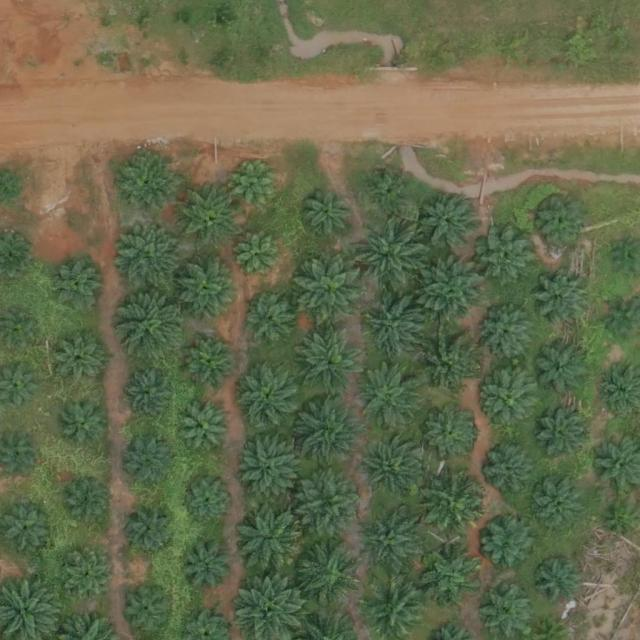Healthy: (358, 213, 436, 291), (120, 291, 191, 362), (299, 327, 370, 398), (295, 395, 366, 466), (117, 224, 187, 295), (296, 253, 367, 323), (296, 470, 366, 541), (235, 506, 305, 577), (117, 153, 180, 216), (239, 364, 302, 427), (360, 366, 423, 429), (360, 442, 423, 505), (425, 473, 488, 536), (422, 548, 485, 611), (179, 185, 241, 248), (241, 435, 303, 498), (367, 294, 429, 357), (422, 261, 484, 324), (417, 333, 479, 396), (362, 511, 425, 573), (297, 543, 360, 605), (179, 260, 241, 322), (2, 503, 57, 558), (423, 197, 478, 252), (423, 406, 478, 461), (479, 231, 534, 286), (480, 309, 535, 364), (483, 372, 538, 427), (483, 442, 538, 497), (483, 517, 538, 572), (535, 273, 590, 328), (534, 343, 589, 398), (534, 407, 589, 462), (530, 481, 585, 536), (481, 583, 536, 638), (62, 548, 117, 603), (302, 188, 356, 243), (128, 441, 175, 489), (187, 340, 234, 388), (184, 405, 231, 453), (251, 298, 298, 346), (54, 262, 101, 309), (129, 370, 176, 417), (125, 588, 172, 635)
Small: (183, 475, 238, 530), (232, 159, 286, 214), (180, 541, 234, 596), (127, 503, 181, 558), (235, 232, 282, 279), (61, 479, 108, 526), (62, 399, 109, 446), (57, 337, 104, 384), (539, 197, 586, 244), (536, 559, 583, 606), (372, 173, 411, 213), (606, 507, 637, 539)
